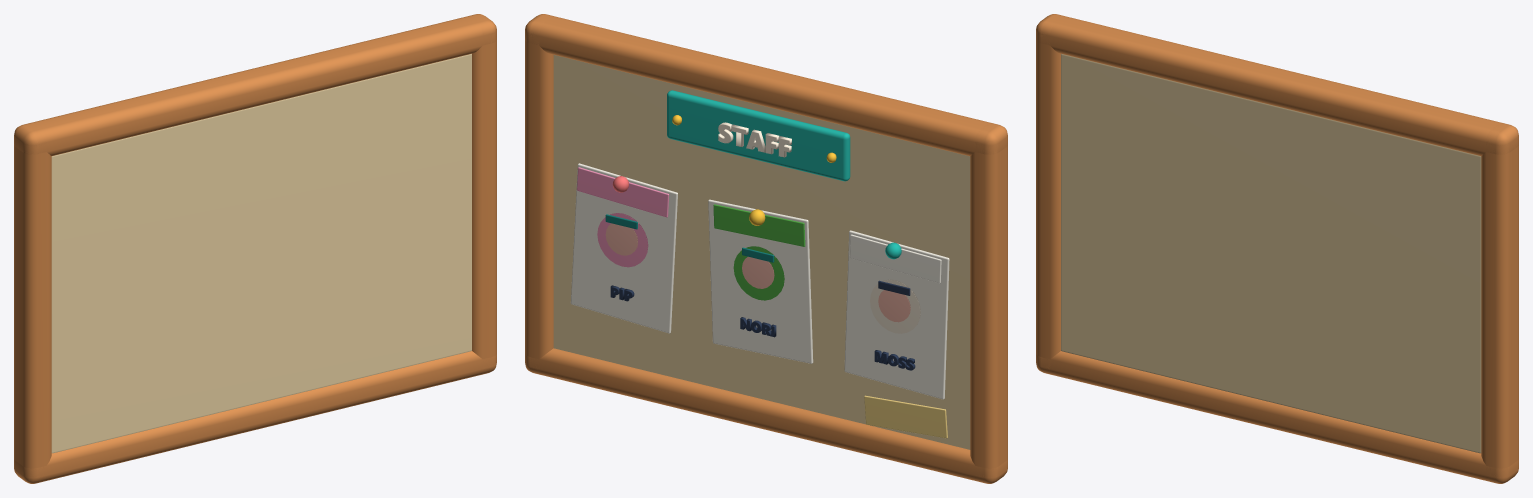
The model's file is StaffBoard.fbx.
3 views of the same model, side by side, from view 1: azimuth 30°, elevation 25°; view 2: azimuth 150°, elevation 25°; view 3: azimuth 330°, elevation 25° (orthographic).
Visible parts, largest first — view 1: StaffBoard mesh; view 2: StaffBoard mesh; view 3: StaffBoard mesh.
Part boxes in pixels (<box>): StaffBoard mesh: <box>14,14,496,483</box>; StaffBoard mesh: <box>525,14,1007,483</box>; StaffBoard mesh: <box>1036,14,1518,483</box>.
Size of the model in its own units: 1.04 by 0.74 by 0.091.
